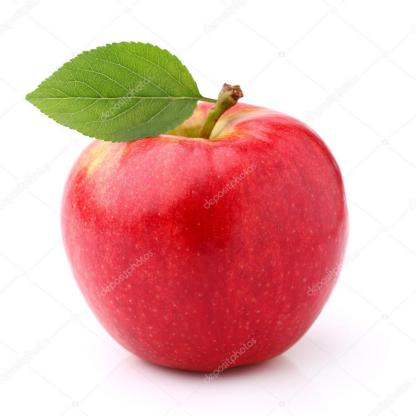apple leaf: (24, 41, 204, 144)
